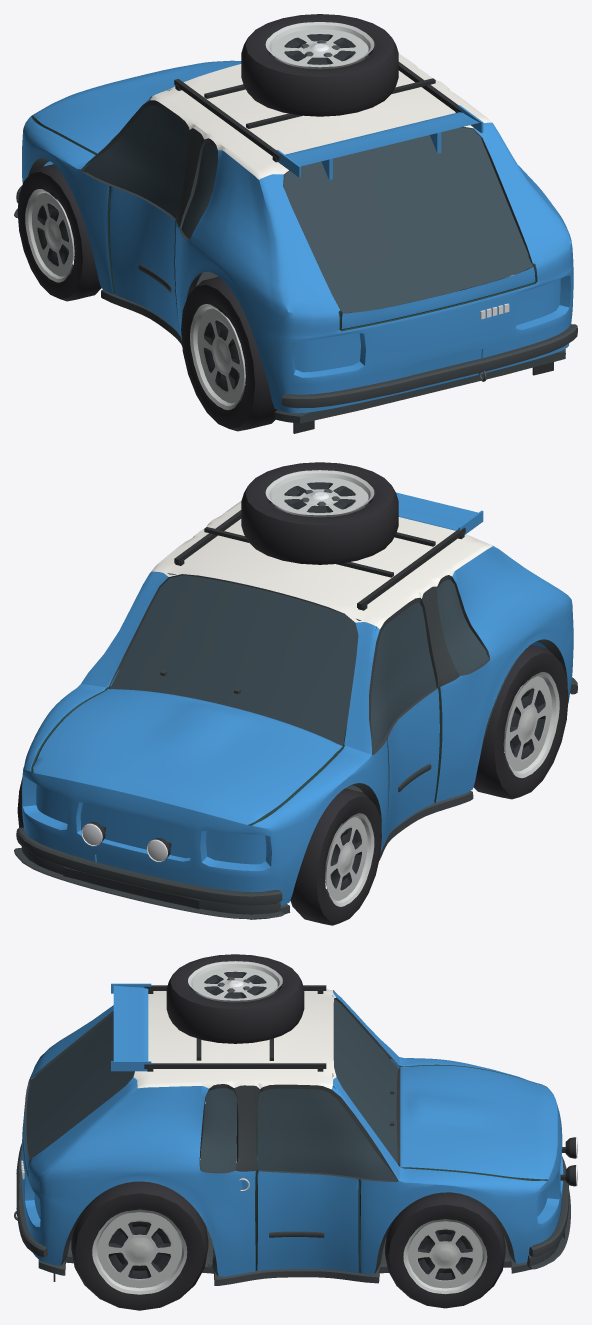
File: forge_kestrel_lod2.fbx
3 views of the same model, one above another, from view 1: azimuth 30°, elevation 25°; view 2: azimuth 150°, elevation 25°; view 3: azimuth 270°, elevation 25° (orthographic). The views are drawn at different scales.
Parts seen in each view (by area): view 1: Body, Wheel_RL_Mesh, Wheel_FL_Mesh; view 2: Body, Wheel_RL_Mesh, Wheel_FL_Mesh; view 3: Body, Wheel_RR_Mesh, Wheel_FR_Mesh.
Boxes of the visible parts, bbox=[...] form: Body: bbox=[14, 14, 577, 433]; Wheel_RL_Mesh: bbox=[181, 276, 277, 431]; Wheel_FL_Mesh: bbox=[17, 164, 101, 301]; Body: bbox=[14, 462, 577, 919]; Wheel_RL_Mesh: bbox=[473, 645, 568, 799]; Wheel_FL_Mesh: bbox=[290, 788, 381, 925]; Body: bbox=[14, 954, 577, 1285]; Wheel_RR_Mesh: bbox=[71, 1181, 208, 1310]; Wheel_FR_Mesh: bbox=[385, 1192, 505, 1308].
Size of the model in its own units: 182 by 168 by 322.
